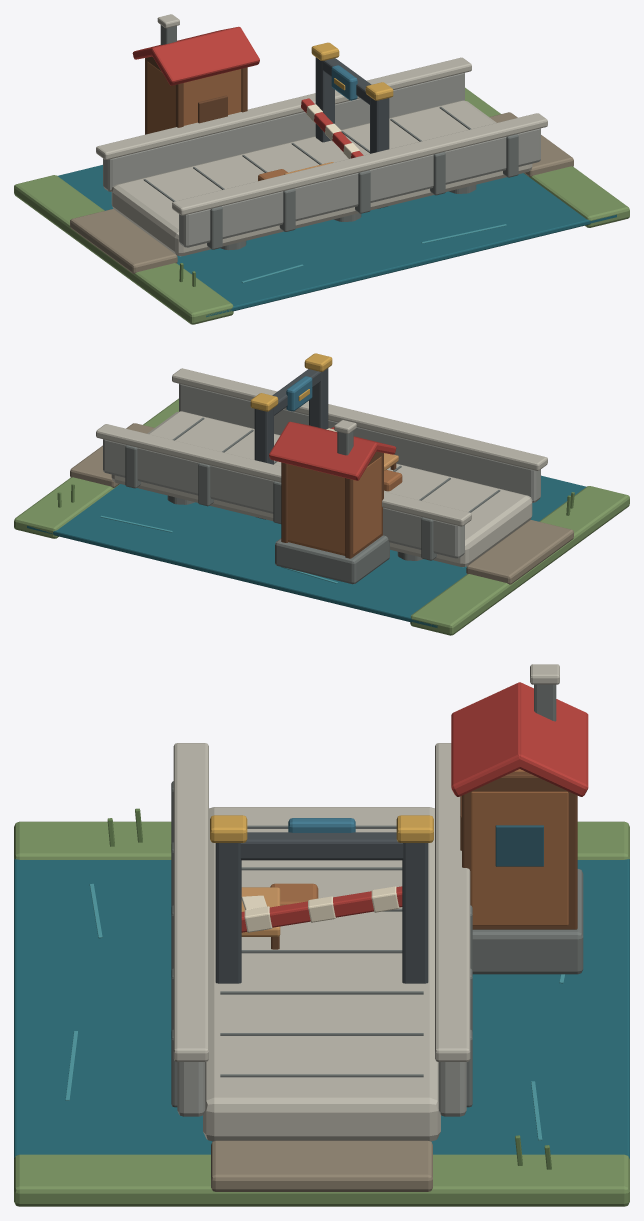
Rendered from environment_bridge_checkpoint_v01.glb.
3 views of the same model, one above another, from view 1: azimuth 30°, elevation 25°; view 2: azimuth 150°, elevation 25°; view 3: azimuth 270°, elevation 25° (orthographic). The views are drawn at different scales.
Parts seen in each view (by area): view 1: GEO_River, GEO_BridgeDeck, GEO_BridgeParapet_L, GEO_BridgeParapet_R, GEO_RiverBank, GEO_ParapetCap_L, GEO_ParapetCap_R, GEO_CheckpointRoofSlope, GEO_CheckpointHut, GEO_Causeway, GEO_RiverBank.001, GEO_Causeway.001 (+12 smaller); view 2: GEO_River, GEO_BridgeDeck, GEO_BridgeParapet_R, GEO_BridgeParapet_L, GEO_CheckpointHut, GEO_RiverBank, GEO_ParapetCap_L, GEO_ParapetCap_R, GEO_CheckpointRoofSlope.001, GEO_Causeway, GEO_RiverBank.001, GEO_CheckpointFoundation (+12 smaller); view 3: GEO_River, GEO_BridgeDeck, GEO_RiverBank.001, GEO_Causeway.001, GEO_ParapetCap_L, GEO_CheckpointHut, GEO_ParapetCap_R, GEO_RiverBank, GEO_CheckpointRoofSlope, GEO_CheckpointRoofSlope.001, GEO_CheckpointFoundation, GEO_GateBeam (+15 smaller).
Part boxes in pixels (x1,y1,x2,y2): GEO_River: (58, 165, 616, 317); GEO_BridgeDeck: (111, 100, 532, 256); GEO_BridgeParapet_L: (179, 128, 540, 247); GEO_BridgeParapet_R: (103, 73, 464, 191); GEO_RiverBank: (14, 175, 233, 324); GEO_ParapetCap_L: (172, 113, 547, 215); GEO_ParapetCap_R: (96, 57, 471, 159); GEO_CheckpointRoofSlope: (151, 27, 259, 85); GEO_CheckpointHut: (147, 61, 241, 133); GEO_Causeway: (70, 209, 177, 273); GEO_RiverBank.001: (465, 87, 629, 227); GEO_Causeway.001: (489, 112, 573, 177); GEO_River: (27, 475, 586, 627); GEO_BridgeDeck: (111, 411, 532, 567); GEO_BridgeParapet_R: (103, 439, 464, 558); GEO_BridgeParapet_L: (179, 383, 540, 502); GEO_CheckpointHut: (287, 456, 381, 555); GEO_RiverBank: (410, 486, 629, 635); GEO_ParapetCap_L: (172, 368, 547, 470); GEO_ParapetCap_R: (96, 424, 471, 526); GEO_CheckpointRoofSlope.001: (269, 422, 377, 480); GEO_Causeway: (466, 520, 573, 584); GEO_RiverBank.001: (14, 398, 178, 538); GEO_CheckpointFoundation: (275, 535, 389, 584); GEO_River: (14, 859, 629, 1158); GEO_BridgeDeck: (203, 807, 440, 1141); GEO_RiverBank.001: (14, 1154, 629, 1206); GEO_Causeway.001: (211, 1140, 432, 1191); GEO_ParapetCap_L: (173, 743, 208, 1061); GEO_CheckpointHut: (471, 769, 568, 925); GEO_ParapetCap_R: (435, 743, 470, 1061); GEO_RiverBank: (14, 821, 629, 859); GEO_CheckpointRoofSlope: (451, 682, 522, 796); GEO_CheckpointRoofSlope.001: (518, 682, 588, 796); GEO_CheckpointFoundation: (472, 869, 583, 974); GEO_GateBeam: (240, 832, 403, 860).
Bounding box in the file's own units: 9.4 × 3.41 × 6.6.
